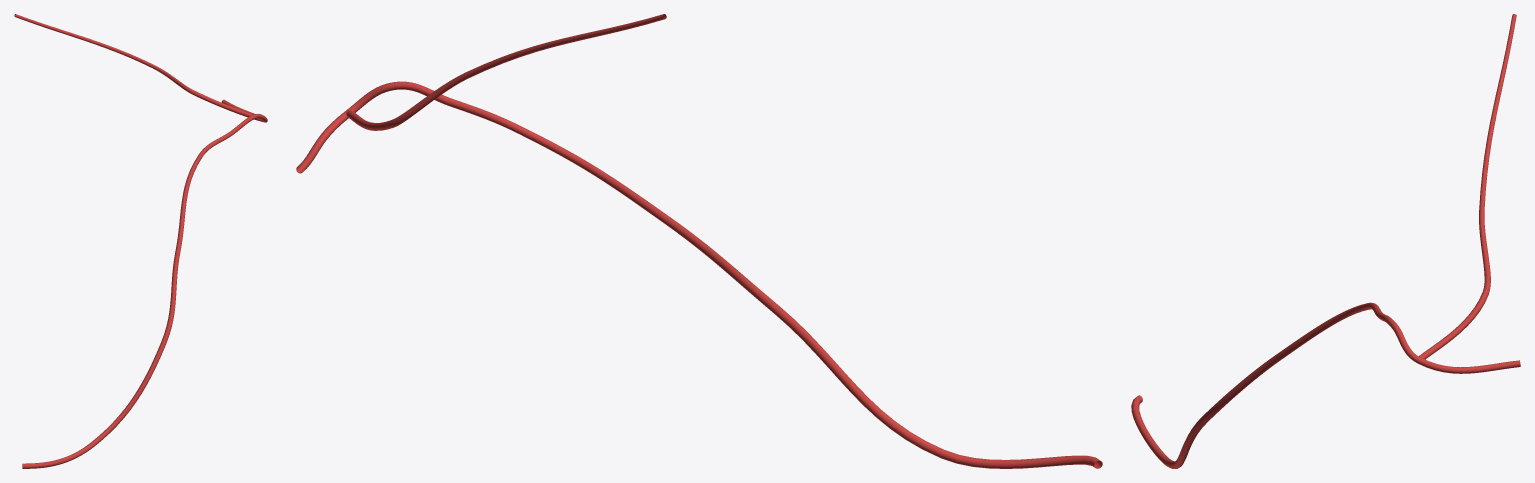
3 views of the same model, side by side, from view 1: azimuth 30°, elevation 25°; view 2: azimuth 150°, elevation 25°; view 3: azimuth 270°, elevation 25° (orthographic). The views are drawn at different scales.
Parts seen in each view (by area): view 1: 左侧肩胛上动脉; view 2: 左侧肩胛上动脉; view 3: 左侧肩胛上动脉.
Boxes of the visible parts, <box> form: 左侧肩胛上动脉: <box>14,14,267,468</box>; 左侧肩胛上动脉: <box>296,14,1102,468</box>; 左侧肩胛上动脉: <box>1131,14,1520,468</box>.
Size of the model in its own units: 0.1513 by 0.1416 by 0.1024.
